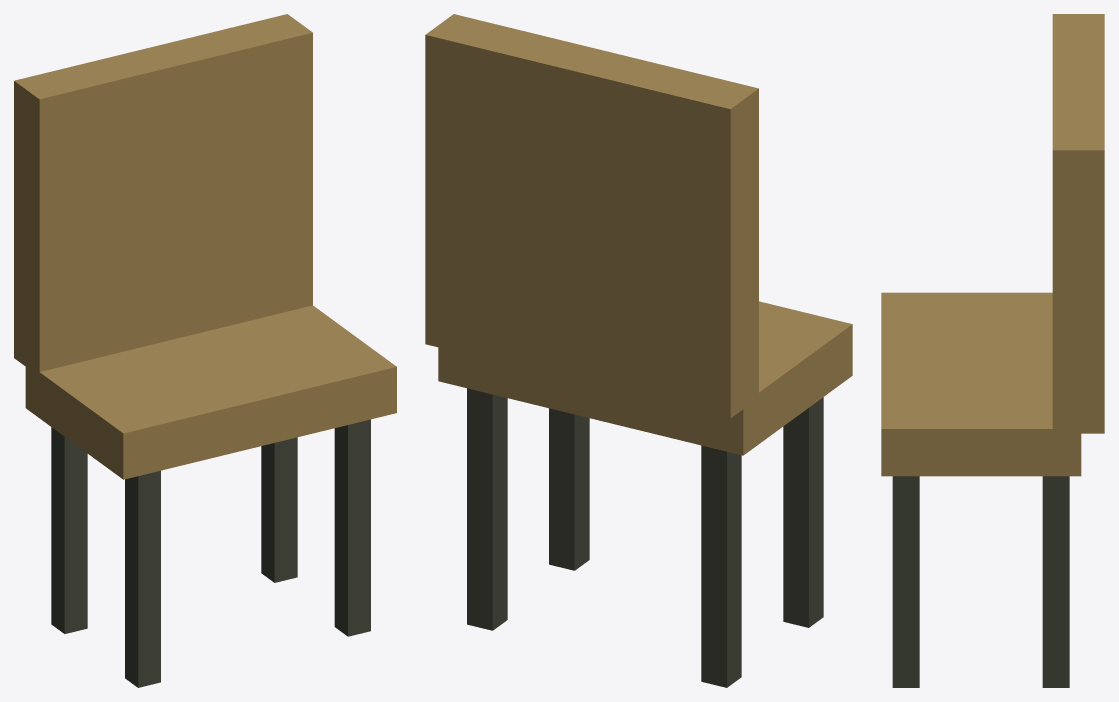
Rendered from chair.glb.
The picture shows the model from 3 angles, left to right: view 1: azimuth 30°, elevation 25°; view 2: azimuth 150°, elevation 25°; view 3: azimuth 270°, elevation 25°; orthographic projection. The views are drawn at different scales.
Parts seen in each view (by area): view 1: REF-L02-R01-chair-part-2, REF-L02-R01-chair-part-1, REF-L02-R01-chair-part-6, REF-L02-R01-chair-part-4, REF-L02-R01-chair-part-3, REF-L02-R01-chair-part-5; view 2: REF-L02-R01-chair-part-2, REF-L02-R01-chair-part-1, REF-L02-R01-chair-part-3, REF-L02-R01-chair-part-5, REF-L02-R01-chair-part-4, REF-L02-R01-chair-part-6; view 3: REF-L02-R01-chair-part-1, REF-L02-R01-chair-part-2, REF-L02-R01-chair-part-5, REF-L02-R01-chair-part-6.
Boxes of the visible parts, x1,y1,x2,y2 form: REF-L02-R01-chair-part-2: (14,14,312,371); REF-L02-R01-chair-part-1: (25,305,396,479); REF-L02-R01-chair-part-6: (334,419,370,636); REF-L02-R01-chair-part-4: (125,470,160,687); REF-L02-R01-chair-part-3: (51,427,87,633); REF-L02-R01-chair-part-5: (261,437,297,582); REF-L02-R01-chair-part-2: (425,14,758,418); REF-L02-R01-chair-part-1: (438,301,852,455); REF-L02-R01-chair-part-3: (701,445,741,687); REF-L02-R01-chair-part-5: (467,388,507,630); REF-L02-R01-chair-part-4: (783,397,823,627); REF-L02-R01-chair-part-6: (549,408,589,570); REF-L02-R01-chair-part-1: (881,292,1081,476); REF-L02-R01-chair-part-2: (1052,14,1104,433); REF-L02-R01-chair-part-5: (1042,476,1069,687); REF-L02-R01-chair-part-6: (892,476,919,687).
Size of the model in its own units: 0.1548 by 0.29 by 0.1073.
